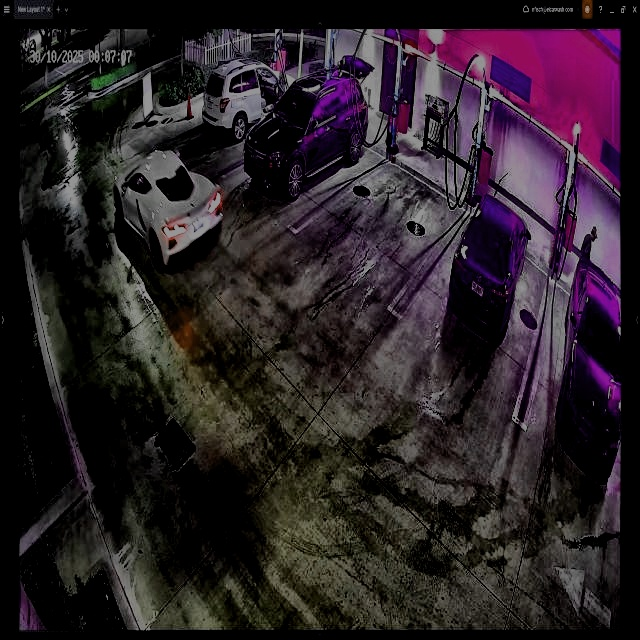Car: (245, 72, 368, 199), (114, 147, 224, 270), (451, 195, 530, 340), (203, 59, 294, 142)
